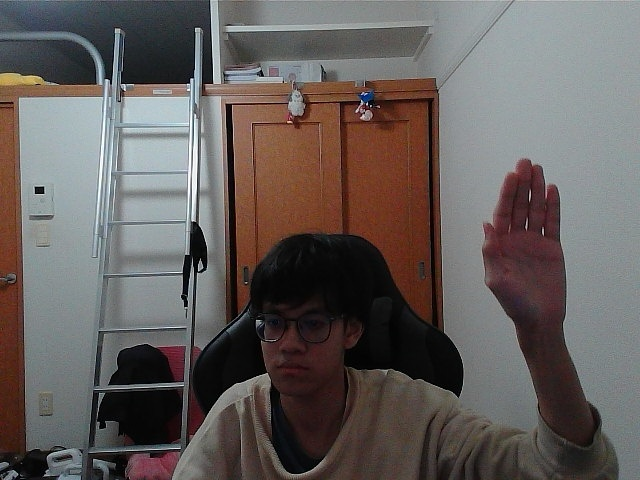open_palm: (489, 165, 554, 323)
